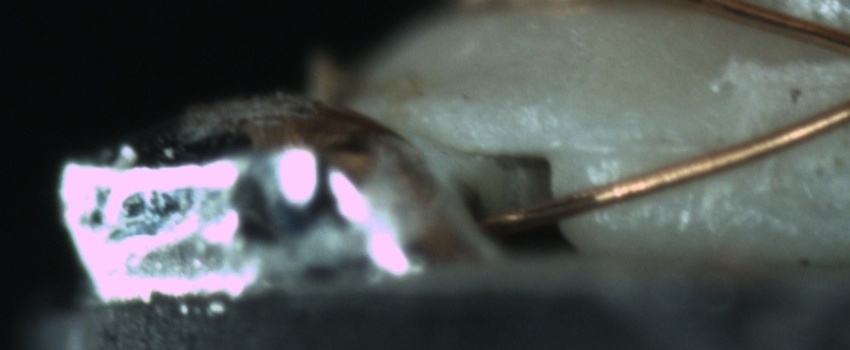DL: (572, 113, 718, 178)
